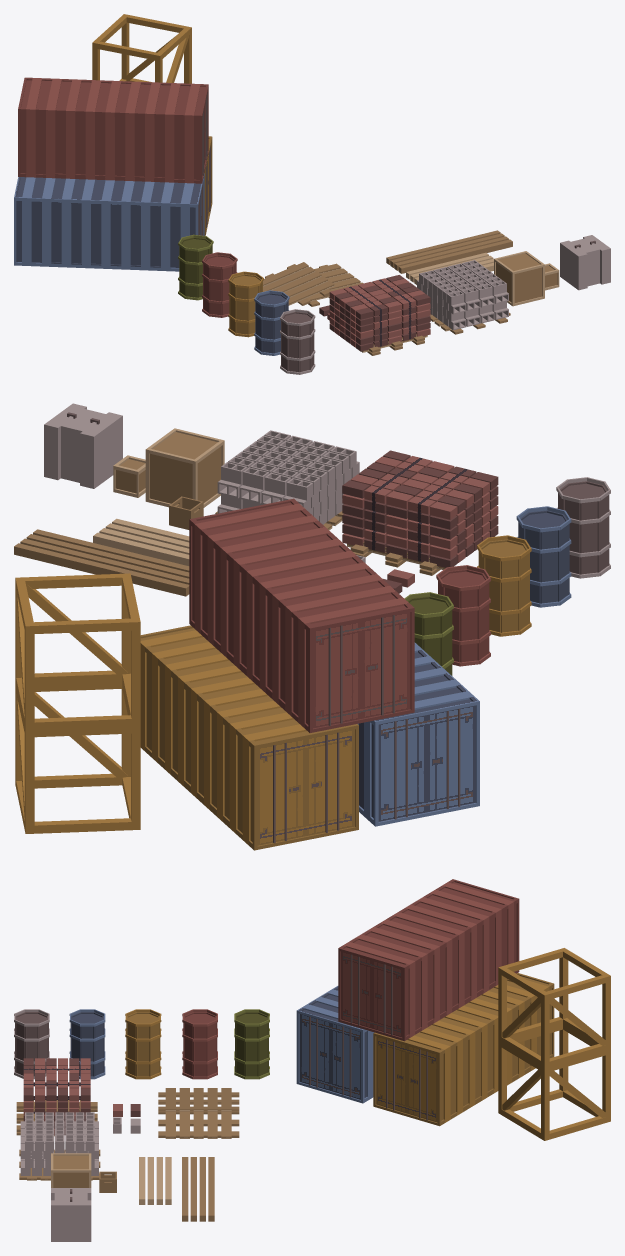
File: voxel_construction_materials_asset_pack.glb
3 renders of one model, top to bottom at view 1: azimuth 30°, elevation 25°; view 2: azimuth 150°, elevation 25°; view 3: azimuth 270°, elevation 25°, orthographic. The views are drawn at different scales.
Parts seen in each view (by area): view 1: Container-1-Local_77, Container-1$$(1)-Local_79, Briickk$$(2)-Local_43, Crane1$$(3)-Local_93, PriketPack$$(4)-Local_67, Box1$$(11)-Local_121, Box1-Local_99, WoodenStack1$$(1)-Local_73, Barrel-Parts$$(8)-Local_31, Briickk$$(1)-Local_41, Briickk-Local_39, Barrel-Parts$$(9)-Local_33 (+17 smaller); view 2: Container-1-Local_77, Container-1$$(2)-Local_81, Container-1$$(1)-Local_79, Crane1$$(3)-Local_93, Briickk$$(2)-Local_43, Crane1-Local_85, PriketPack$$(4)-Local_67, Box1$$(11)-Local_121, Box1-Local_99, Briickk$$(1)-Local_41, Briickk-Local_39, Barrel-Parts$$(6)-Local_25 (+21 smaller); view 3: Container-1-Local_77, Container-1$$(2)-Local_81, Container-1$$(1)-Local_79, Crane1$$(3)-Local_93, Crane1-Local_85, Briickk$$(2)-Local_43, PriketPack$$(4)-Local_67, Box1$$(11)-Local_121, WoodenStack1-Local_71, WoodenStack1$$(1)-Local_73, Barrel-Parts$$(3)-Local_15, Barrel-Parts$$(5)-Local_21 (+12 smaller).
Part boxes in pixels (x1,y1,x2,y2): Container-1-Local_77: (18,77,208,183); Container-1$$(1)-Local_79: (14,173,204,271); Briickk$$(2)-Local_43: (329,275,430,325); Crane1$$(3)-Local_93: (92,14,191,83); PriketPack$$(4)-Local_67: (419,260,506,305); Box1$$(11)-Local_121: (560,235,610,290); Box1-Local_99: (494,251,544,306); WoodenStack1$$(1)-Local_73: (263,262,334,305); Barrel-Parts$$(8)-Local_31: (280,309,315,374); Briickk$$(1)-Local_41: (329,304,430,338); Briickk-Local_39: (329,317,430,351); Barrel-Parts$$(9)-Local_33: (280,309,314,374); Container-1-Local_77: (189,498,414,732); Container-1$$(2)-Local_81: (140,625,358,850); Container-1$$(1)-Local_79: (358,642,479,826); Crane1$$(3)-Local_93: (15,573,140,730); Briickk$$(2)-Local_43: (342,450,498,529); Crane1-Local_85: (15,681,140,833); PriketPack$$(4)-Local_67: (221,430,356,500); Box1$$(11)-Local_121: (44,403,122,488); Box1-Local_99: (145,428,224,507); Briickk$$(1)-Local_41: (342,496,498,549); Briickk-Local_39: (342,515,498,567); Barrel-Parts$$(6)-Local_25: (516,506,570,607); Container-1-Local_77: (338,879,519,1041); Container-1$$(2)-Local_81: (373,973,554,1126); Container-1$$(1)-Local_79: (296,986,374,1103); Crane1$$(3)-Local_93: (498,948,610,1067); Crane1-Local_85: (498,1024,610,1140); Briickk$$(2)-Local_43: (23,1058,90,1107); PriketPack$$(4)-Local_67: (25,1112,94,1150); Box1$$(11)-Local_121: (51,1188,91,1241); WoodenStack1-Local_71: (158,1111,239,1138); WoodenStack1$$(1)-Local_73: (158,1088,239,1111); Barrel-Parts$$(3)-Local_15: (182,1009,217,1079); Barrel-Parts$$(5)-Local_21: (125,1009,161,1078).
Bounding box in the file's own units: 425 × 130 × 472.
Materials: 47 (47 with a texture image).
